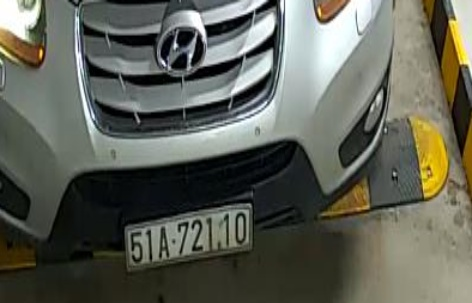plate: (107, 197, 267, 275)
